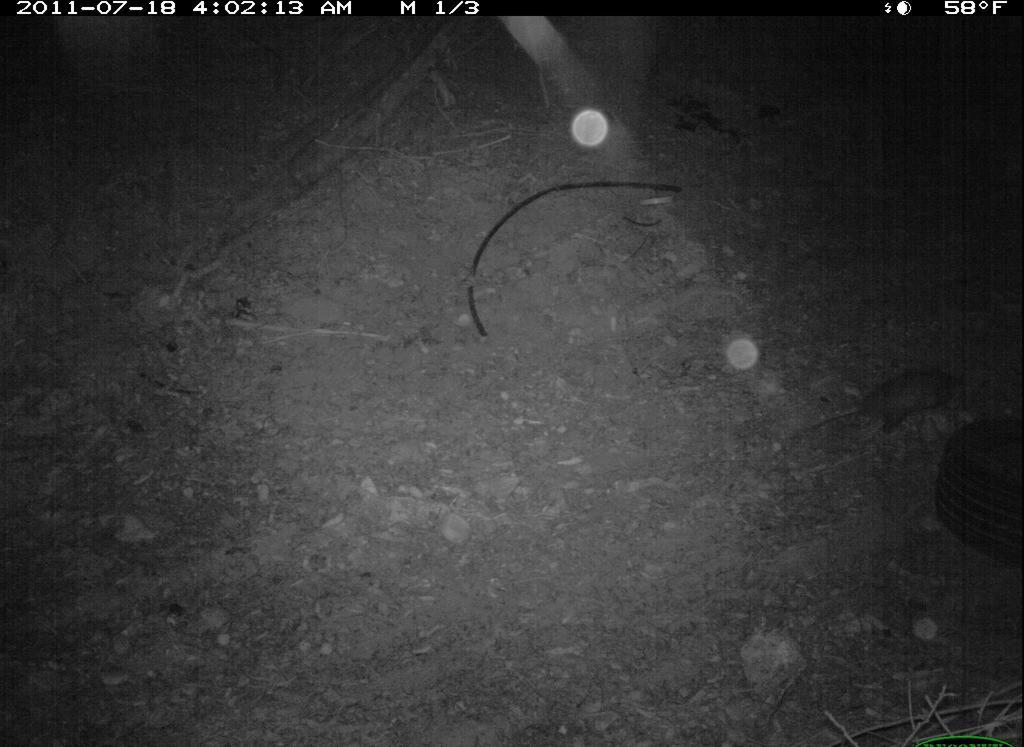opossum: (785, 364, 968, 451)
